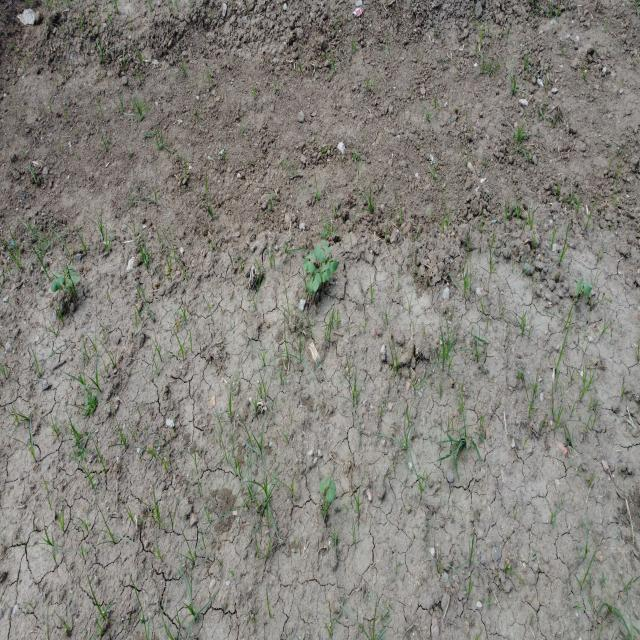seedling: (326, 479, 336, 503), (51, 276, 64, 292), (314, 246, 325, 263), (319, 476, 330, 492), (303, 260, 315, 273), (321, 240, 332, 254), (63, 276, 73, 291), (313, 274, 321, 292), (584, 279, 592, 297), (576, 277, 584, 293), (321, 270, 331, 282), (70, 270, 79, 283), (329, 260, 338, 273), (319, 263, 329, 273), (307, 275, 312, 294), (305, 251, 316, 259), (325, 256, 333, 265)
